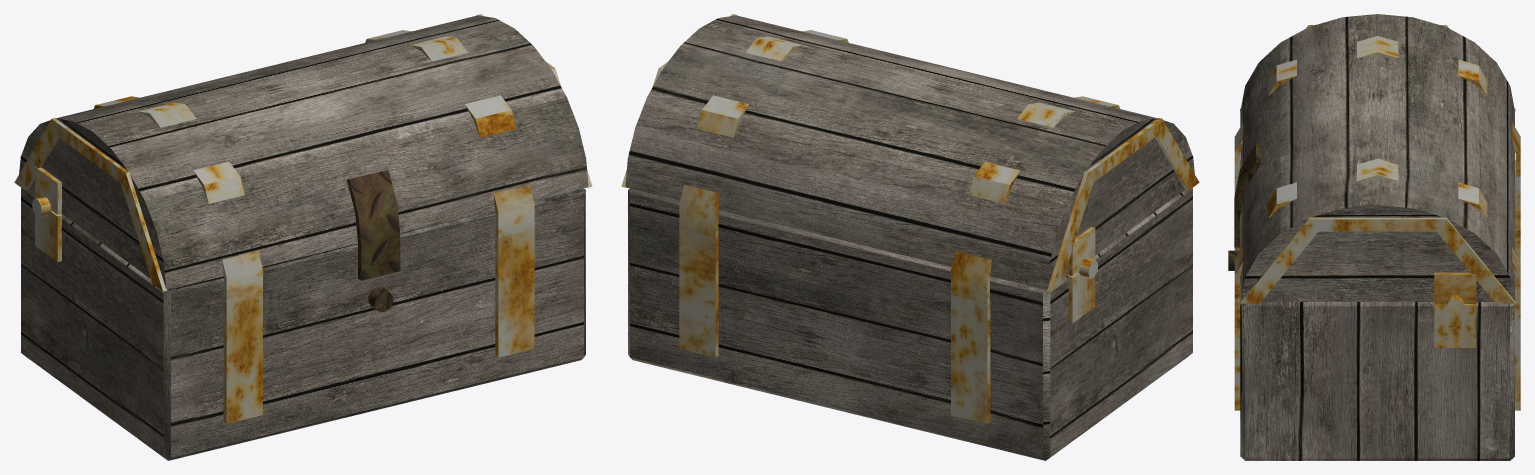
The picture shows the model from 3 angles, left to right: view 1: azimuth 30°, elevation 25°; view 2: azimuth 150°, elevation 25°; view 3: azimuth 270°, elevation 25°; orthographic projection. The views are drawn at different scales.
Visible parts, largest first — view 1: LP_Chest.001; view 2: LP_Chest.001; view 3: LP_Chest.001.
Part boxes in pixels (x1,y1,x2,y2): LP_Chest.001: [14, 14, 592, 460]; LP_Chest.001: [621, 14, 1199, 460]; LP_Chest.001: [1228, 14, 1520, 460].
Size of what is drawn, in the model's own units: 1.49 by 0.8955 by 0.906.
Materials: 3 (3 with a texture image).
